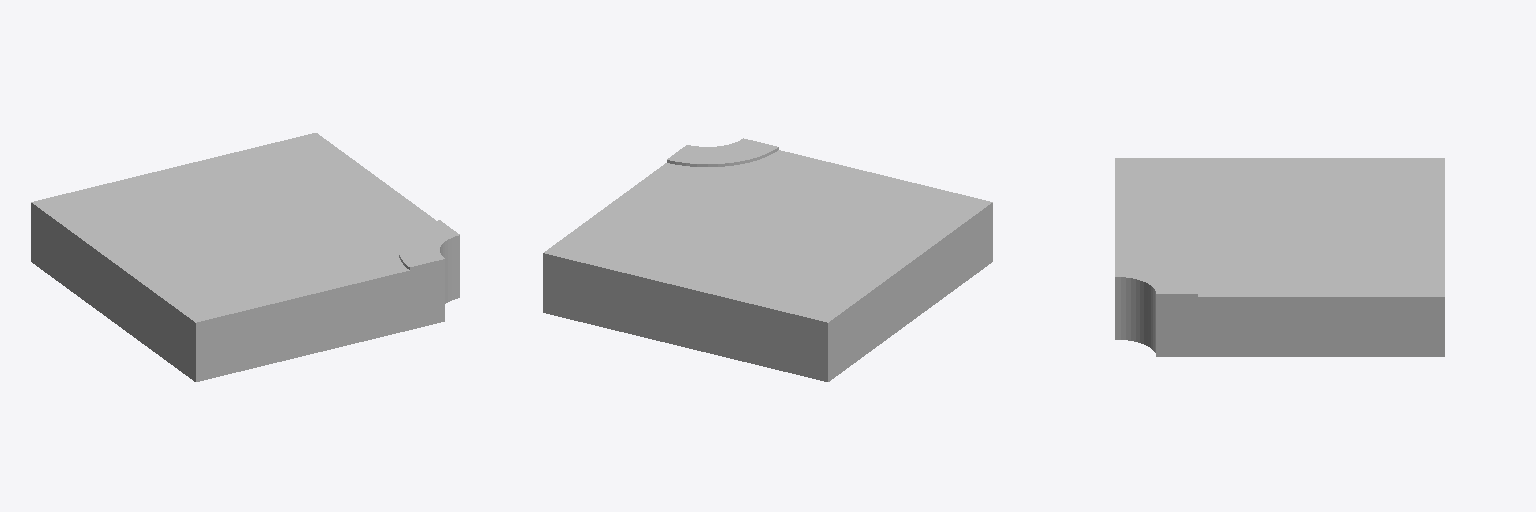
Rendered from tile199.obj.
The picture shows the model from 3 angles: view 1: azimuth 30°, elevation 25°; view 2: azimuth 150°, elevation 25°; view 3: azimuth 270°, elevation 25°; orthographic projection.
Parts seen in each view (by area): view 1: tile199; view 2: tile199; view 3: tile199.
Part boxes in pixels (bbox=[...]): tile199: bbox=[31, 133, 459, 381]; tile199: bbox=[543, 138, 992, 381]; tile199: bbox=[1115, 158, 1444, 356].
Size of the model in its own units: 1 by 0.21 by 1.